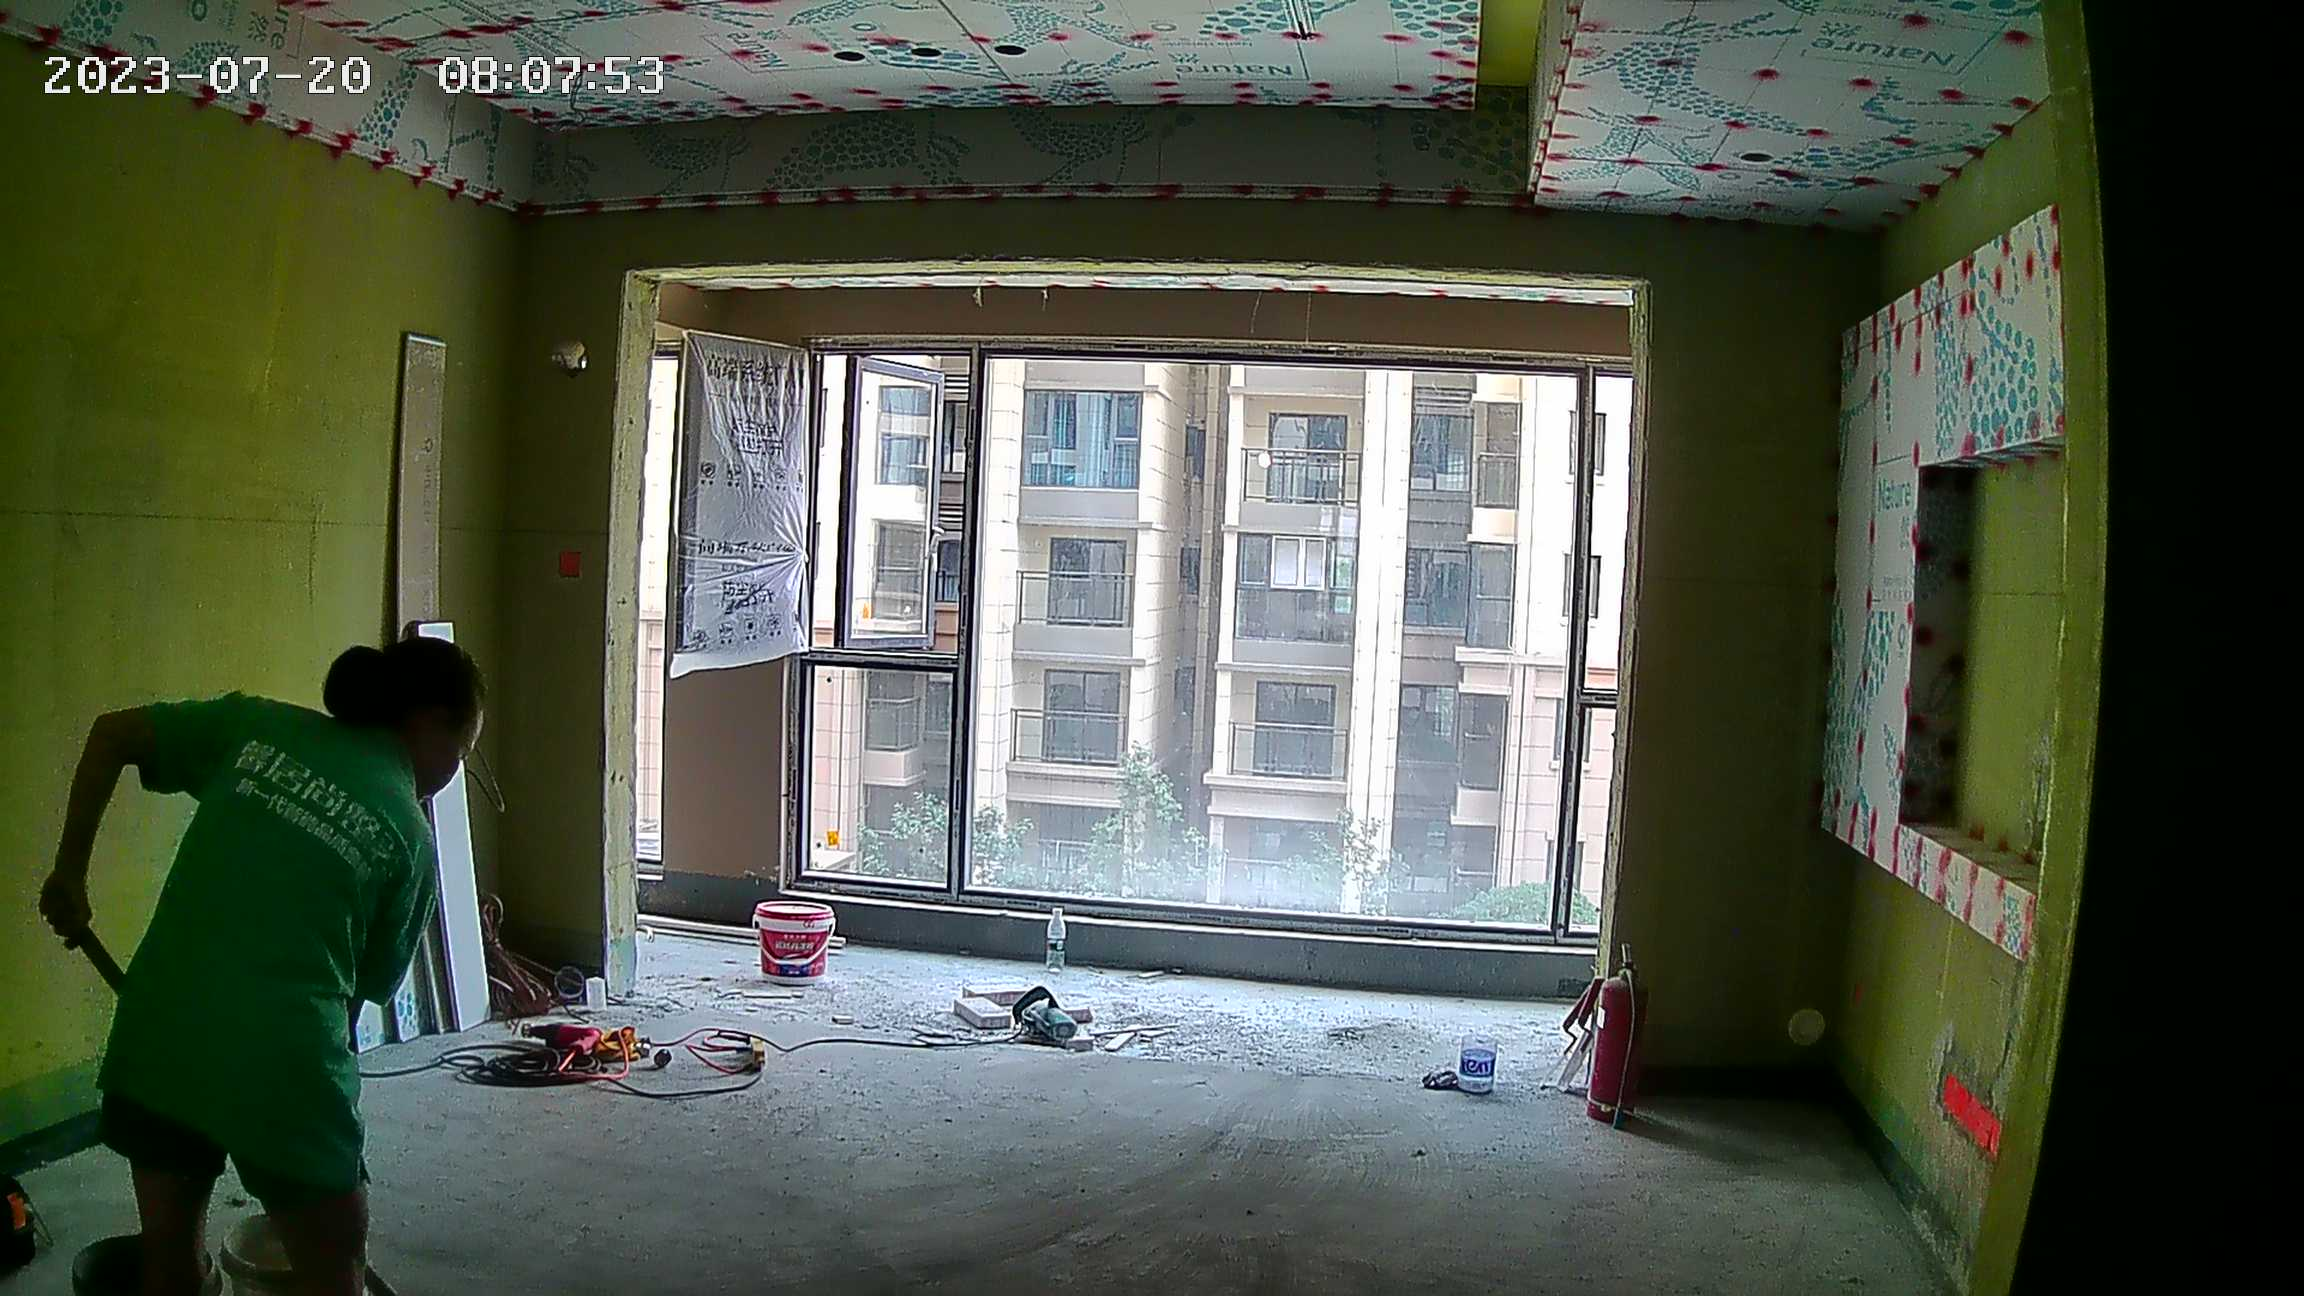people: (38, 631, 499, 1293)
window: (801, 351, 1605, 944)
